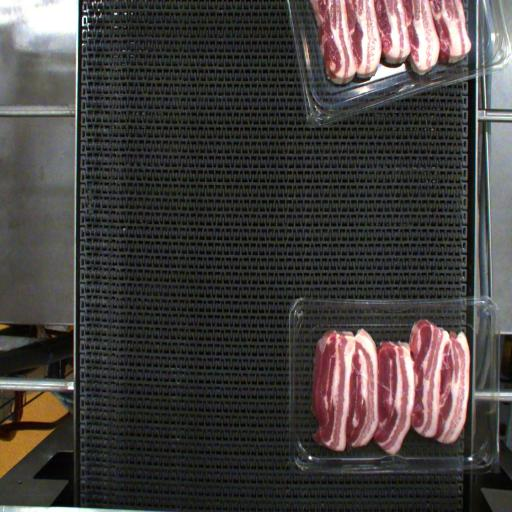wrinkle: (352, 364, 404, 402)
